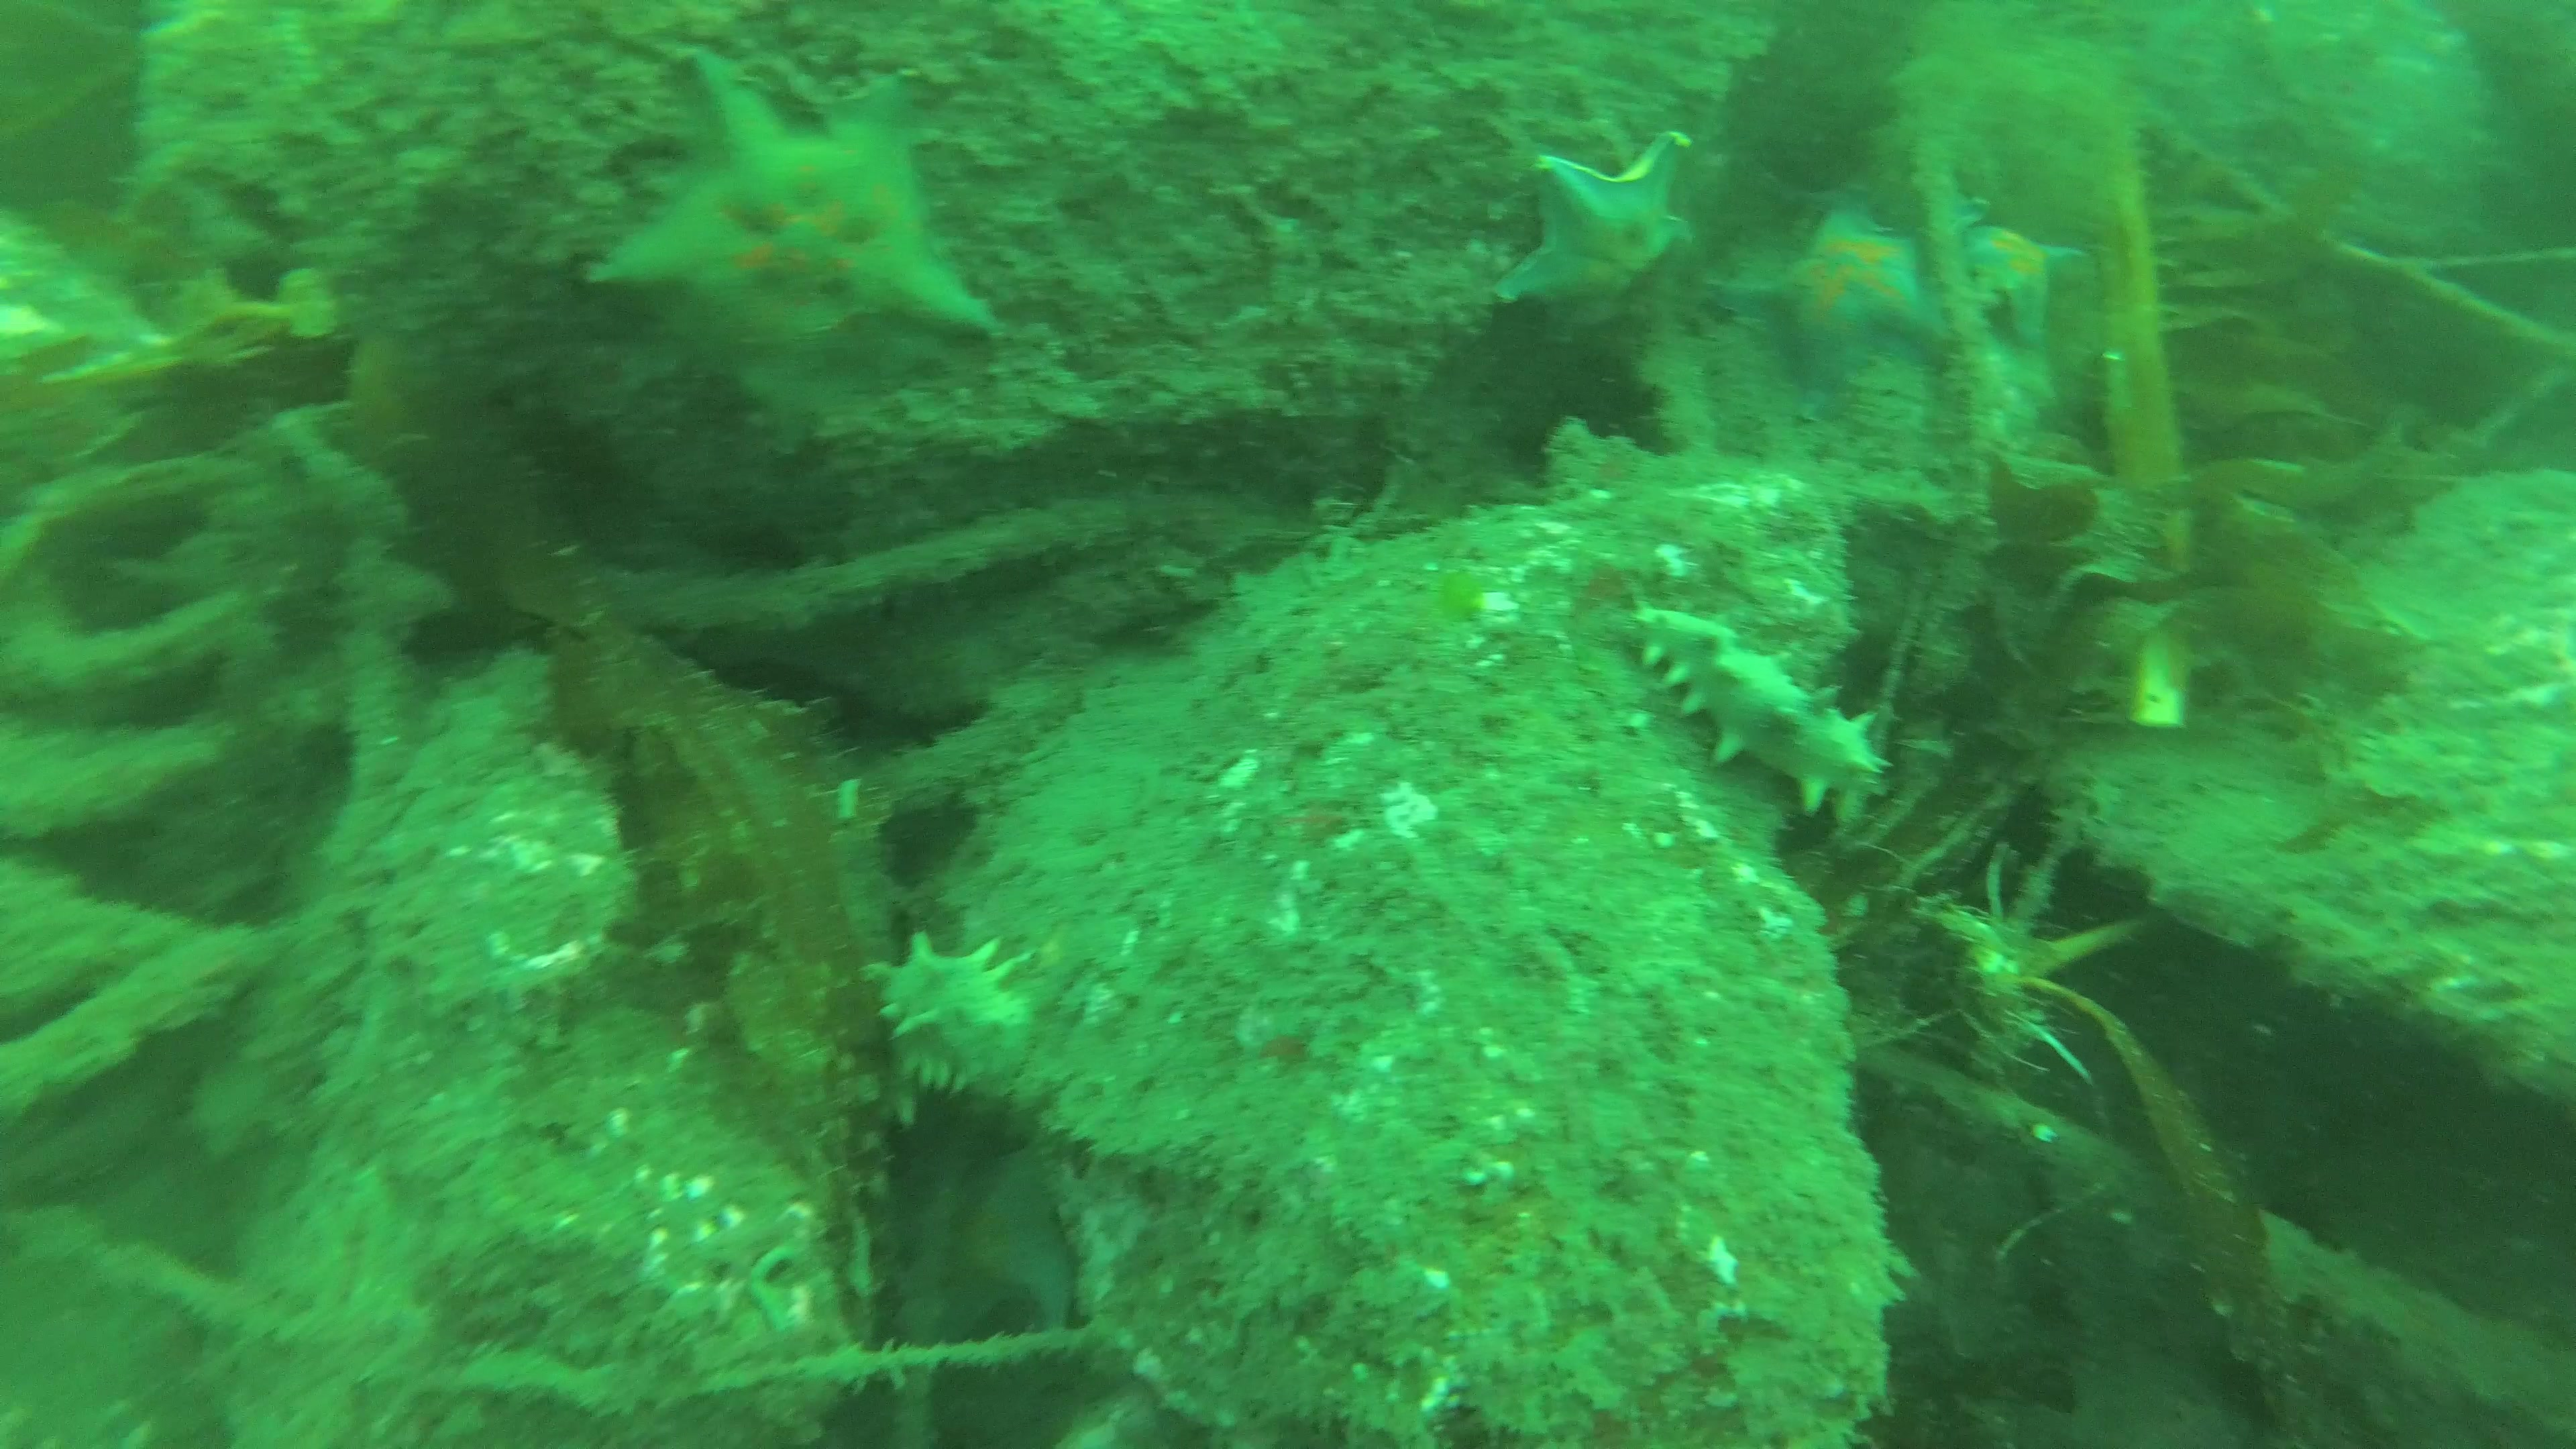holothurian: (1621, 591, 1893, 821), (856, 936, 1047, 1097)
starfish: (582, 44, 998, 432), (1707, 182, 1943, 395), (1500, 126, 1698, 333), (1964, 205, 2079, 354)
